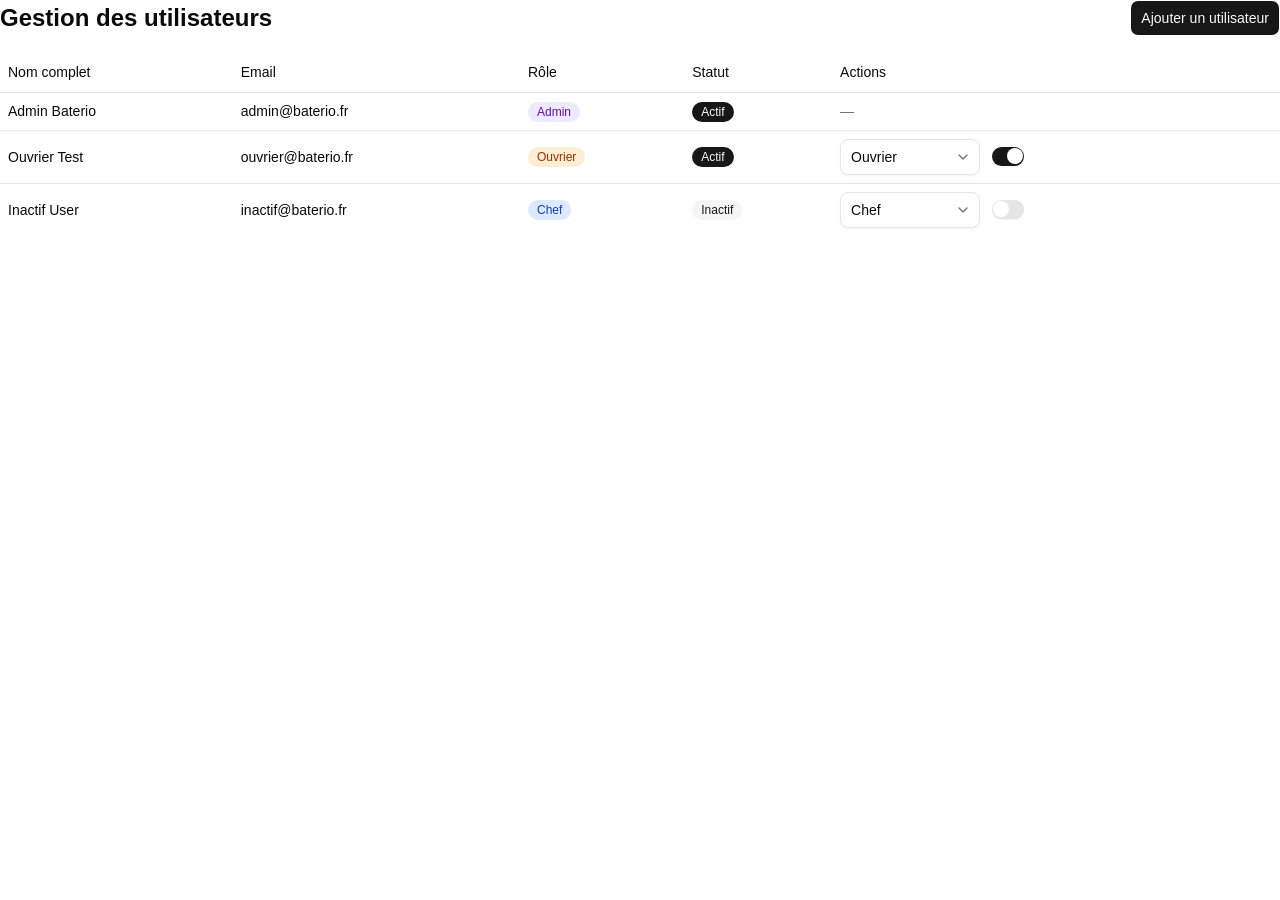
Test case: UserManagement › opens create user dialog when add button is clicked
The width and height of the screenshot is (1280, 900).
Click the button "Ajouter un utilisateur": {"x": 1205, "y": 18} [1130,0,1279,36]
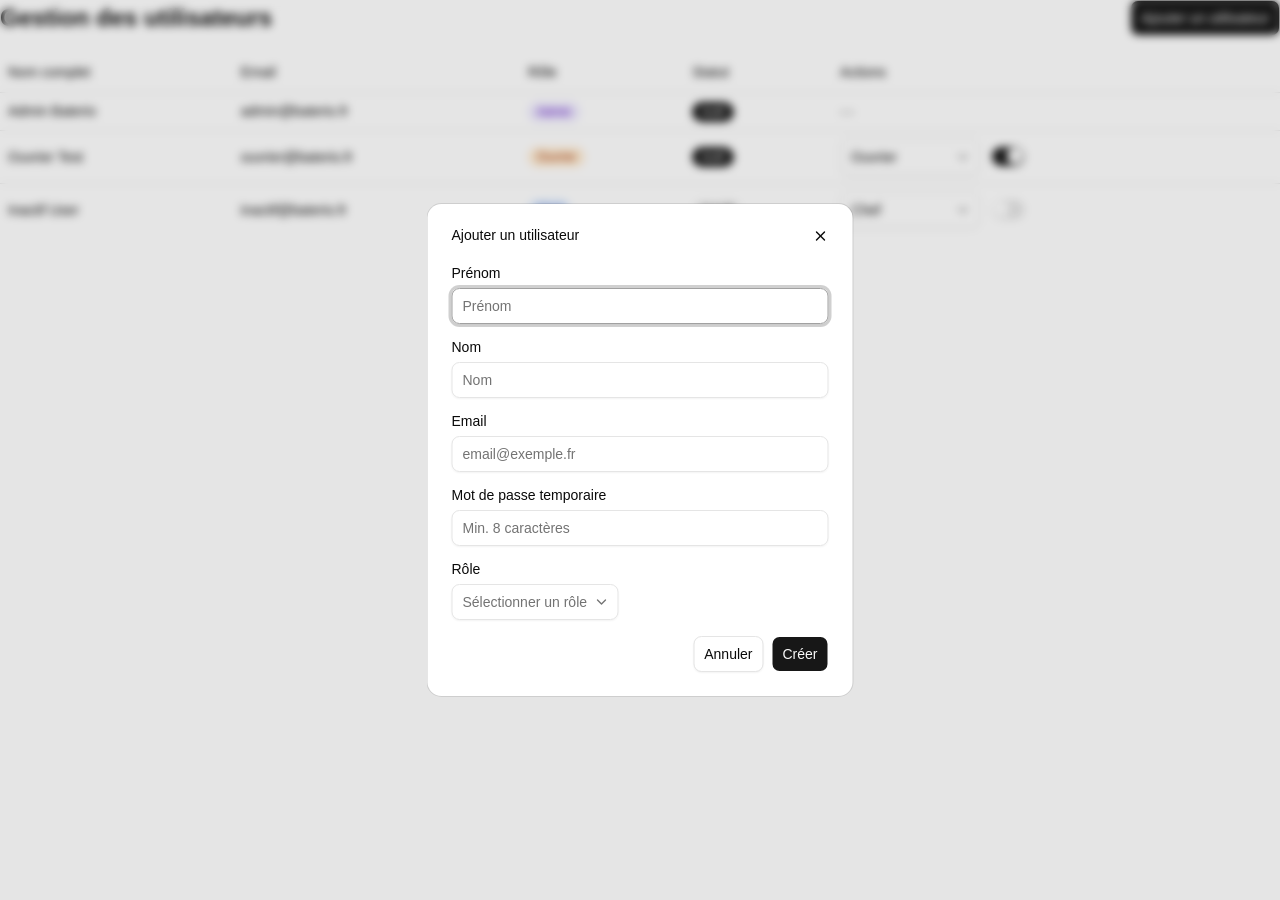
Expected: the text "Prénom" is shown, [452,265,500,281]
